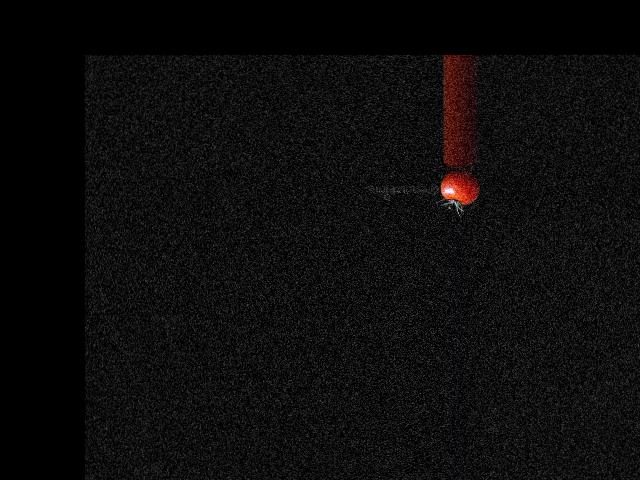tomato: (440, 171, 478, 204)
